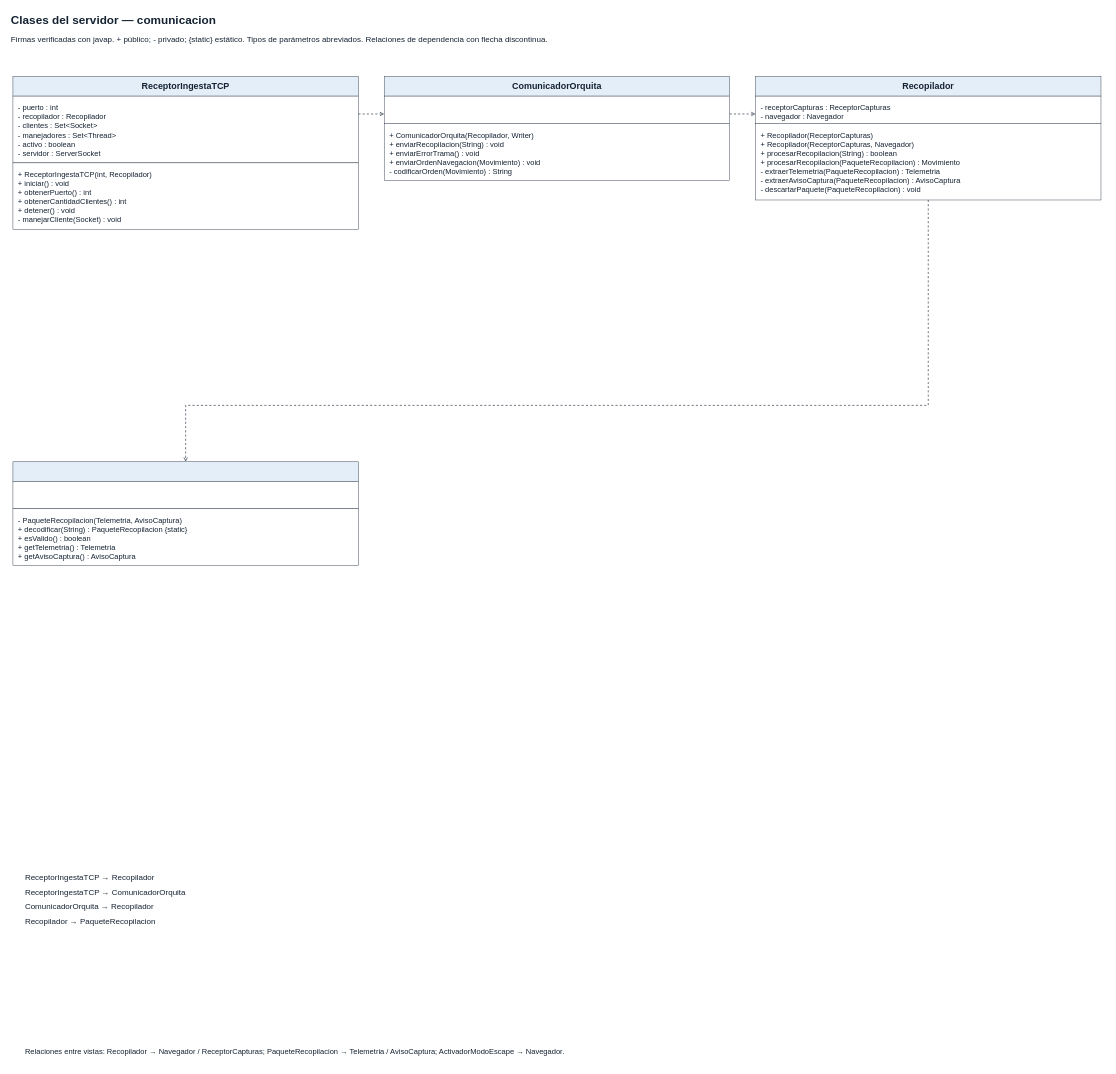
Image size: 1116x1074. Some labels were removed from this diagram. The shapes that lost their labels are listed below. From the top down, each one's centre as x and y in pixels, then its label:
(x=557, y=109): - recopilador : Recopilador - salida : Writer
(x=185, y=471): PaqueteRecopilacion
(x=185, y=495): - telemetria : Telemetria - avisoCaptura : AvisoCaptura
